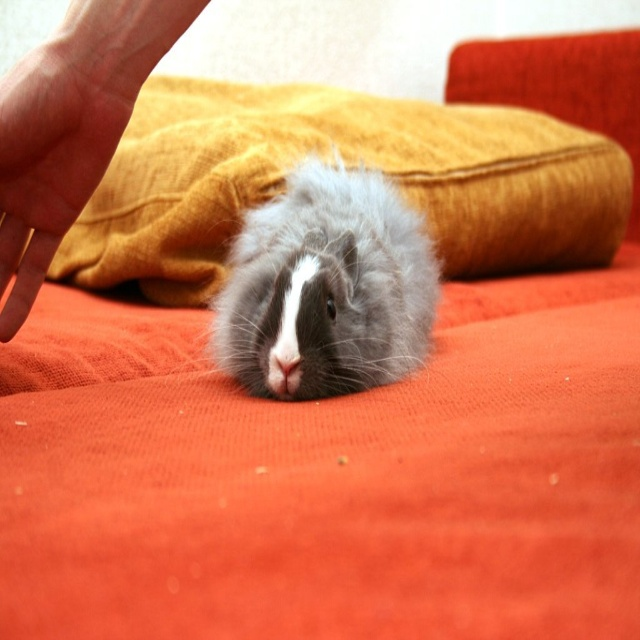Rabbit: (212, 152, 447, 404)
